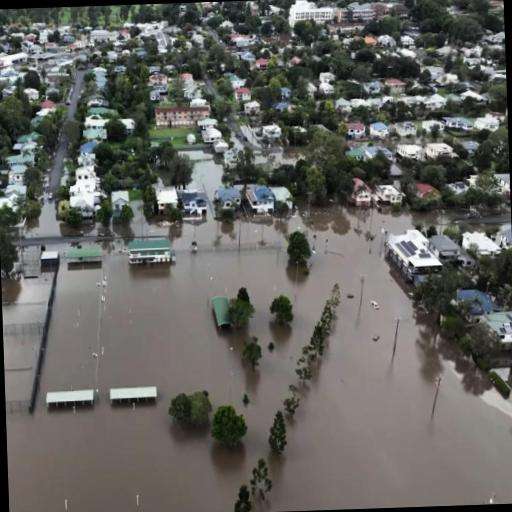flood: (5, 203, 512, 512), (3, 333, 39, 401), (1, 274, 51, 302), (2, 303, 45, 324)
house: (384, 228, 440, 286), (68, 159, 104, 217), (124, 231, 176, 269), (428, 230, 474, 269), (474, 310, 512, 351), (178, 182, 208, 226), (245, 180, 276, 220), (460, 229, 498, 260), (344, 175, 376, 211), (152, 104, 196, 130), (287, 0, 333, 24), (64, 244, 104, 267), (0, 162, 29, 193), (376, 180, 404, 212), (154, 184, 178, 214), (425, 140, 455, 160), (110, 188, 130, 216), (440, 115, 472, 131), (492, 170, 510, 198), (394, 143, 422, 160), (393, 119, 417, 137), (39, 248, 59, 268), (382, 76, 404, 94), (412, 183, 440, 197), (199, 128, 222, 144), (367, 121, 388, 138), (342, 122, 364, 138), (242, 100, 260, 118), (154, 80, 170, 95), (508, 345, 512, 378)
